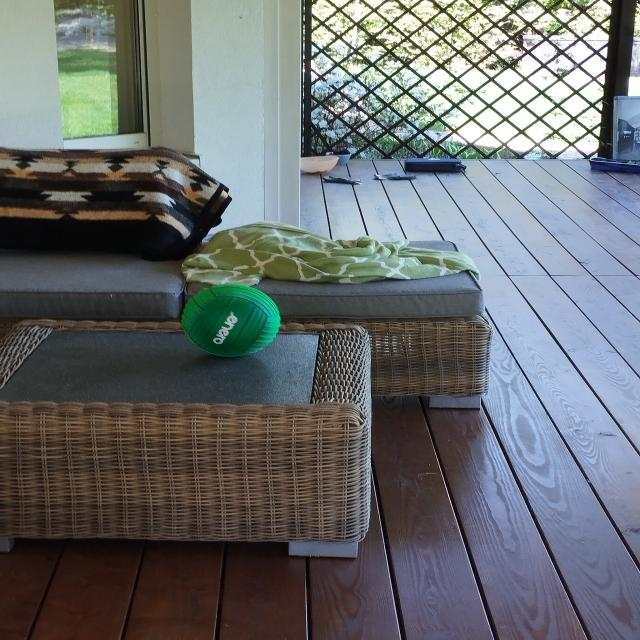zielona: (181, 282, 281, 358)
